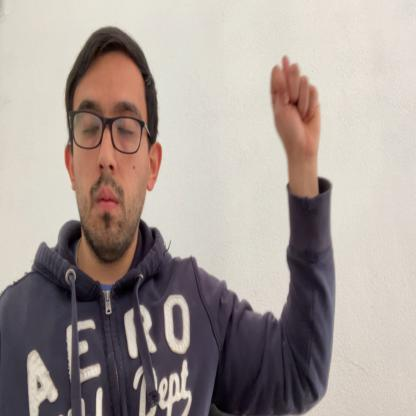T: (271, 56, 320, 156)
